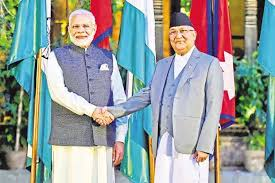Bad: (46, 9, 223, 183)
